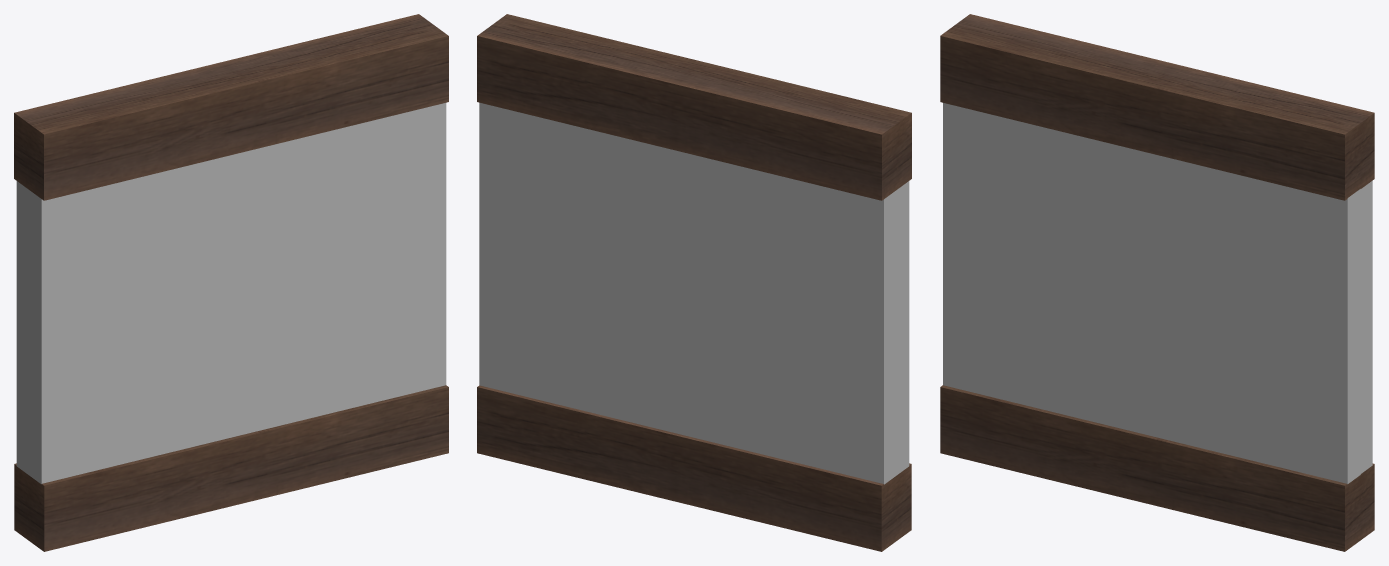
File: yane_frame_side_0t_a.fbx
3 renders of one model, left to right at view 1: azimuth 30°, elevation 25°; view 2: azimuth 150°, elevation 25°; view 3: azimuth 330°, elevation 25°, orthographic.
Parts seen in each view (by area): view 1: yane_frame_side_0t_a; view 2: yane_frame_side_0t_a; view 3: yane_frame_side_0t_a.
Boxes of the visible parts, <box> form: yane_frame_side_0t_a: <box>14,14,448,551</box>; yane_frame_side_0t_a: <box>477,14,911,551</box>; yane_frame_side_0t_a: <box>940,14,1374,551</box>.
Size of the model in its own units: 110 by 109 by 14.1.
